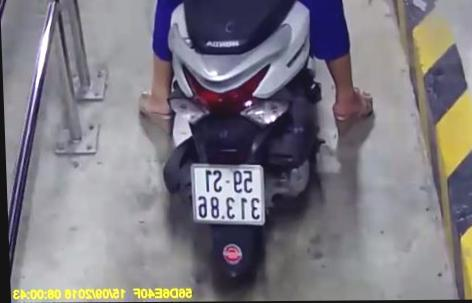License_Plate: (182, 161, 271, 233)
